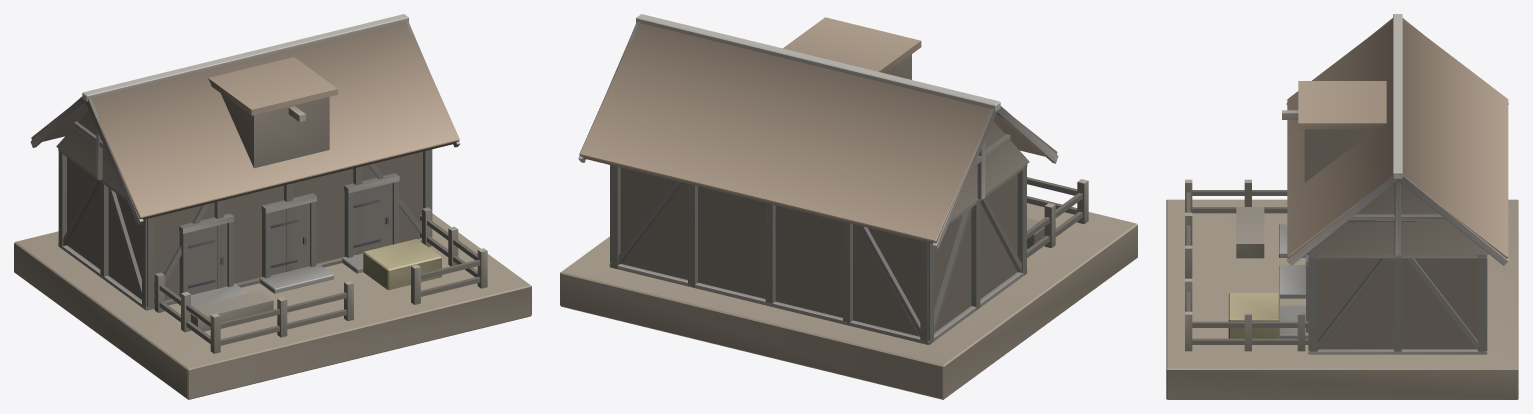
File: stable_l1_lod1.glb
3 views of the same model, side by side, from view 1: azimuth 30°, elevation 25°; view 2: azimuth 150°, elevation 25°; view 3: azimuth 270°, elevation 25° (orthographic). The views are drawn at different scales.
Parts seen in each view (by area): view 1: stable_l1_lod1; view 2: stable_l1_lod1; view 3: stable_l1_lod1.
Part boxes in pixels (left/top/right/bottom): stable_l1_lod1: left=14, top=14, right=531, bottom=399; stable_l1_lod1: left=560, top=14, right=1137, bottom=399; stable_l1_lod1: left=1166, top=14, right=1518, bottom=399.
Size of the model in its own units: 9.8 by 5.98 by 8.6.
